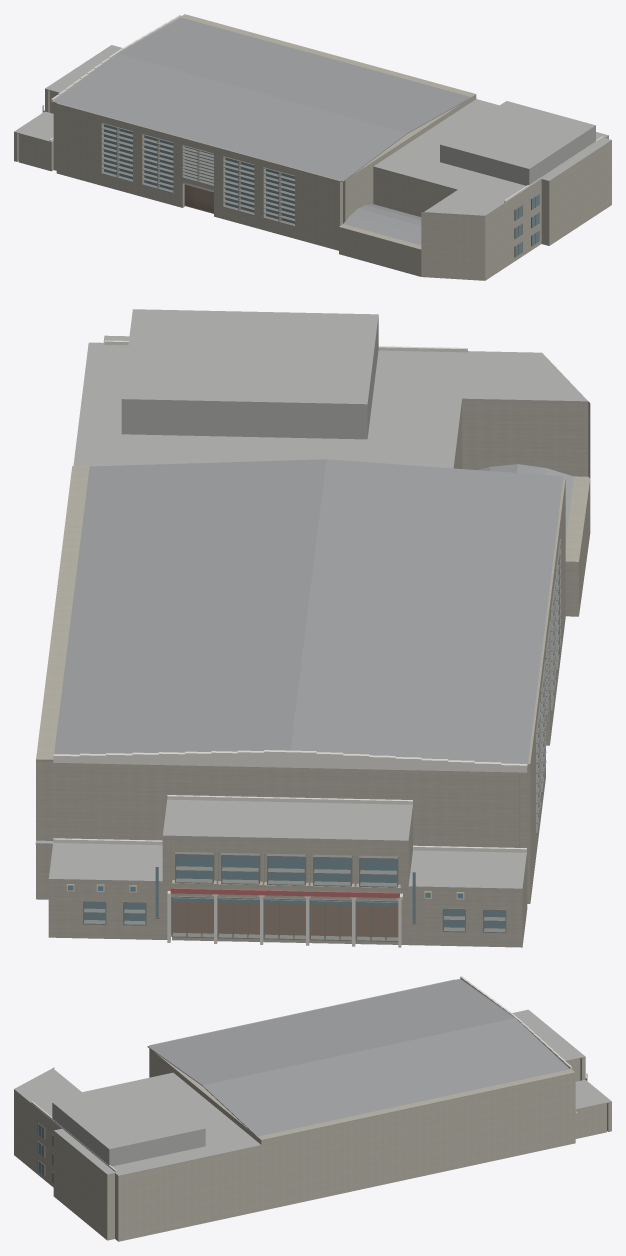
File: Naval_Armory_Jefferson_All_LODs.glb
3 views of the same model, one above another, from view 1: azimuth 30°, elevation 25°; view 2: azimuth 150°, elevation 25°; view 3: azimuth 270°, elevation 25° (orthographic). The views are drawn at different scales.
Parts seen in each view (by area): view 1: LOD0, LOD0__05_REAR_THREE_STORY_OFFICE_WING, LOD0__22_SIDE_SEVEN_BAY_LIMESTONE_SKIN, LOD0__12_REAR_OFFICE_FLAT_ROOF, LOD0__13_PENTHOUSE_FLAT_ROOF, LOD0__24_SIDE_WINDOW_TEN_ROWS_TWO_PANES, LOD0__04_DRILL_HALL_TALL_MASONRY_SHELL, LOD0__23_SIDE_FIVE_TALL_WINDOW_BAYS, LOD0__06_ONE_STORY_SOUTHWEST_ANNEX, LOD0__07_PENTHOUSE_TEMPORARY_SHELL_BELOW_ROOF, LOD0__14_ANNEX_BARREL_ROOF_PROFILE_ESTIMATED, LOD0__01_WEST_FRONT_WING_LIMESTONE (+5 smaller); view 2: LOD0, LOD0__04_DRILL_HALL_TALL_MASONRY_SHELL, LOD0__12_REAR_OFFICE_FLAT_ROOF, LOD0__13_PENTHOUSE_FLAT_ROOF, LOD0__09_VESTIBULE_FLAT_ROOF, LOD0__05_REAR_THREE_STORY_OFFICE_WING, LOD0__07_PENTHOUSE_TEMPORARY_SHELL_BELOW_ROOF, LOD0__17_FIVE_TRIPLE_DOOR_RECESSED_PORTICO, LOD0__21_SHALLOW_GABLED_PARAPET_HALL_FRONT, LOD0__17_FIVE_TRIPLE_DOOR_RECESSED_PORTICO_LOWER_BAYS, LOD0__17_FIVE_TRIPLE_DOOR_RECESSED_PORTICO_SECOND_STORY_WIND (×2), LOD0__15_WEST_ONE_STORY_FACADE (+14 smaller); view 3: LOD0, LOD0__04_DRILL_HALL_TALL_MASONRY_SHELL, LOD0__05_REAR_THREE_STORY_OFFICE_WING, LOD0__12_REAR_OFFICE_FLAT_ROOF, LOD0__13_PENTHOUSE_FLAT_ROOF, LOD0__07_PENTHOUSE_TEMPORARY_SHELL_BELOW_ROOF, LOD0__09_VESTIBULE_FLAT_ROOF, LOD0__03_EAST_FRONT_WING_LIMESTONE, LOD0__10_WING_EAST_FLAT_ROOF, LOD0__21_SHALLOW_GABLED_PARAPET_HALL_FRONT, LOD0__22_SIDE_SEVEN_BAY_LIMESTONE_SKIN.
Part boxes in pixels (x1,y1,x2,y2): LOD0: [52, 17, 471, 181]; LOD0__05_REAR_THREE_STORY_OFFICE_WING: [373, 136, 611, 280]; LOD0__22_SIDE_SEVEN_BAY_LIMESTONE_SKIN: [56, 103, 342, 250]; LOD0__12_REAR_OFFICE_FLAT_ROOF: [373, 99, 611, 216]; LOD0__13_PENTHOUSE_FLAT_ROOF: [440, 101, 595, 169]; LOD0__24_SIDE_WINDOW_TEN_ROWS_TWO_PANES: [101, 123, 294, 226]; LOD0__04_DRILL_HALL_TALL_MASONRY_SHELL: [53, 14, 476, 223]; LOD0__23_SIDE_FIVE_TALL_WINDOW_BAYS: [104, 124, 294, 223]; LOD0__06_ONE_STORY_SOUTHWEST_ANNEX: [339, 224, 423, 276]; LOD0__07_PENTHOUSE_TEMPORARY_SHELL_BELOW_ROOF: [440, 126, 595, 185]; LOD0__14_ANNEX_BARREL_ROOF_PROFILE_ESTIMATED: [343, 204, 421, 245]; LOD0__01_WEST_FRONT_WING_LIMESTONE: [18, 133, 53, 171]; LOD0: [36, 459, 563, 768]; LOD0__04_DRILL_HALL_TALL_MASONRY_SHELL: [36, 466, 519, 899]; LOD0__12_REAR_OFFICE_FLAT_ROOF: [73, 335, 590, 468]; LOD0__13_PENTHOUSE_FLAT_ROOF: [121, 309, 378, 405]; LOD0__09_VESTIBULE_FLAT_ROOF: [162, 799, 413, 842]; LOD0__05_REAR_THREE_STORY_OFFICE_WING: [454, 400, 590, 478]; LOD0__07_PENTHOUSE_TEMPORARY_SHELL_BELOW_ROOF: [121, 317, 378, 439]; LOD0__17_FIVE_TRIPLE_DOOR_RECESSED_PORTICO: [162, 836, 408, 944]; LOD0__21_SHALLOW_GABLED_PARAPET_HALL_FRONT: [53, 750, 527, 772]; LOD0__17_FIVE_TRIPLE_DOOR_RECESSED_PORTICO_LOWER_BAYS: [173, 901, 398, 937]; LOD0__17_FIVE_TRIPLE_DOOR_RECESSED_PORTICO_SECOND_STORY_WIND (×2): [175, 852, 398, 887]; LOD0__15_WEST_ONE_STORY_FACADE: [408, 887, 522, 947]; LOD0: [147, 979, 569, 1137]; LOD0__04_DRILL_HALL_TALL_MASONRY_SHELL: [149, 1048, 575, 1210]; LOD0__05_REAR_THREE_STORY_OFFICE_WING: [14, 1068, 261, 1241]; LOD0__12_REAR_OFFICE_FLAT_ROOF: [14, 1067, 261, 1176]; LOD0__13_PENTHOUSE_FLAT_ROOF: [52, 1081, 205, 1149]; LOD0__07_PENTHOUSE_TEMPORARY_SHELL_BELOW_ROOF: [52, 1103, 205, 1166]; LOD0__09_VESTIBULE_FLAT_ROOF: [512, 1009, 585, 1060]; LOD0__03_EAST_FRONT_WING_LIMESTONE: [575, 1103, 606, 1138]; LOD0__10_WING_EAST_FLAT_ROOF: [575, 1079, 611, 1113]; LOD0__21_SHALLOW_GABLED_PARAPET_HALL_FRONT: [460, 976, 571, 1069]; LOD0__22_SIDE_SEVEN_BAY_LIMESTONE_SKIN: [149, 979, 454, 1045].
Size of what is drawn, in the model's own units: 83.75 by 16.3 by 105.
Materials: 11 (4 with a texture image).
